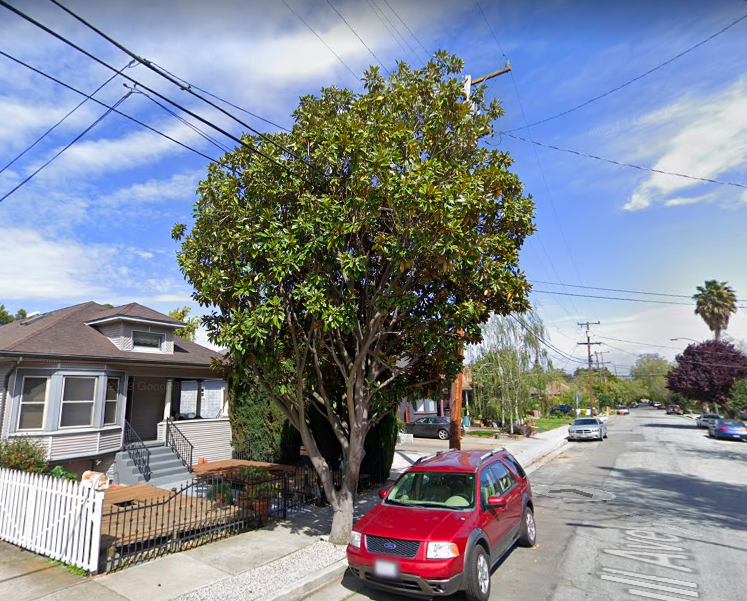tree: (169, 47, 538, 543)
